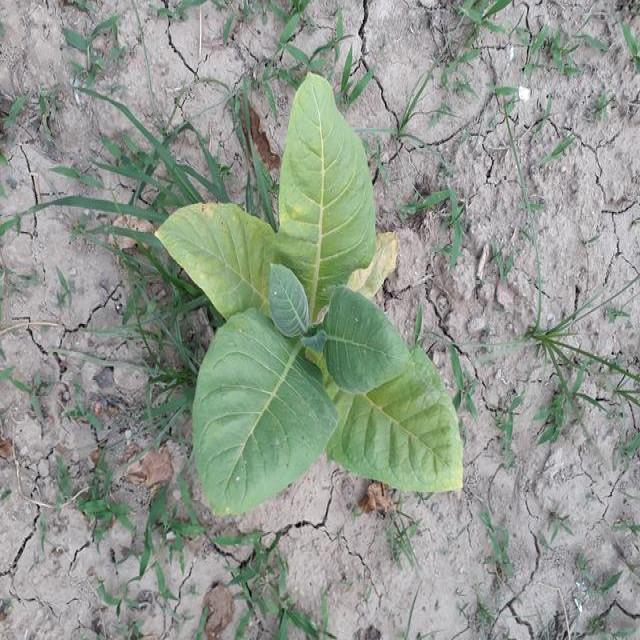crop: (159, 76, 463, 515)
